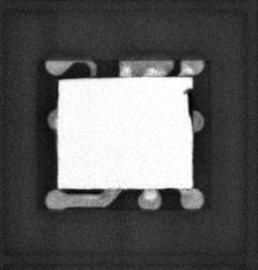DIE_BROKEN: (183, 86, 194, 124)
